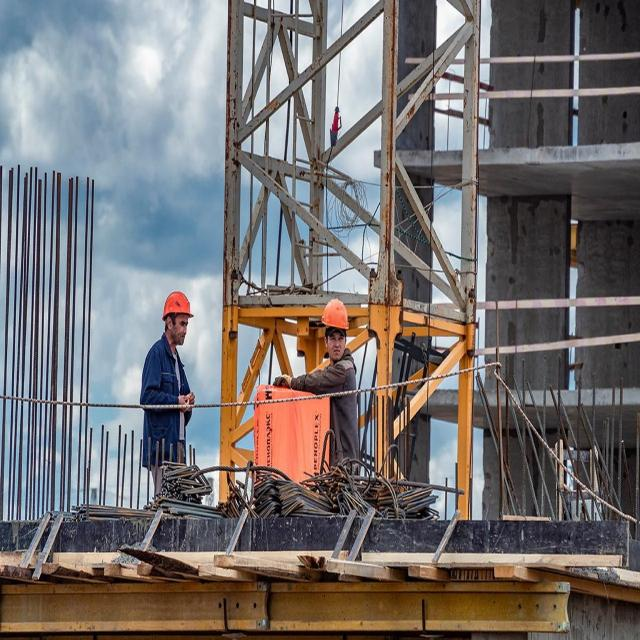Helmet: (164, 292, 196, 322), (323, 299, 351, 332)
NoJacket: (149, 338, 187, 446), (331, 355, 359, 455)
